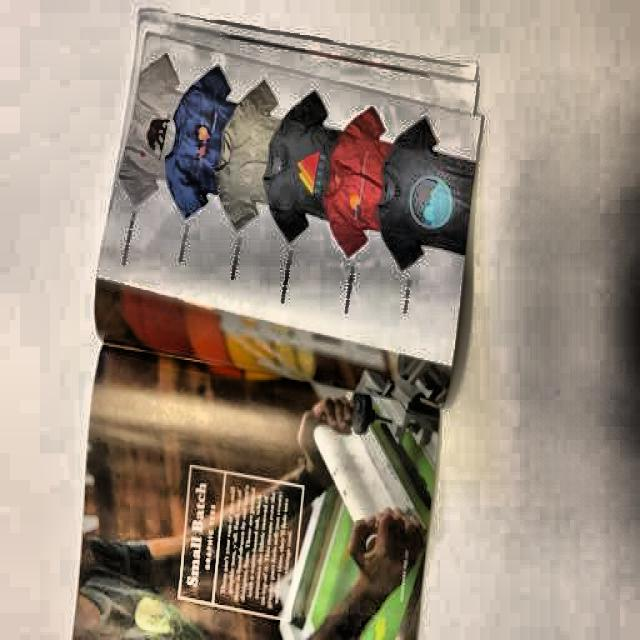paper: (84, 1, 487, 640)
